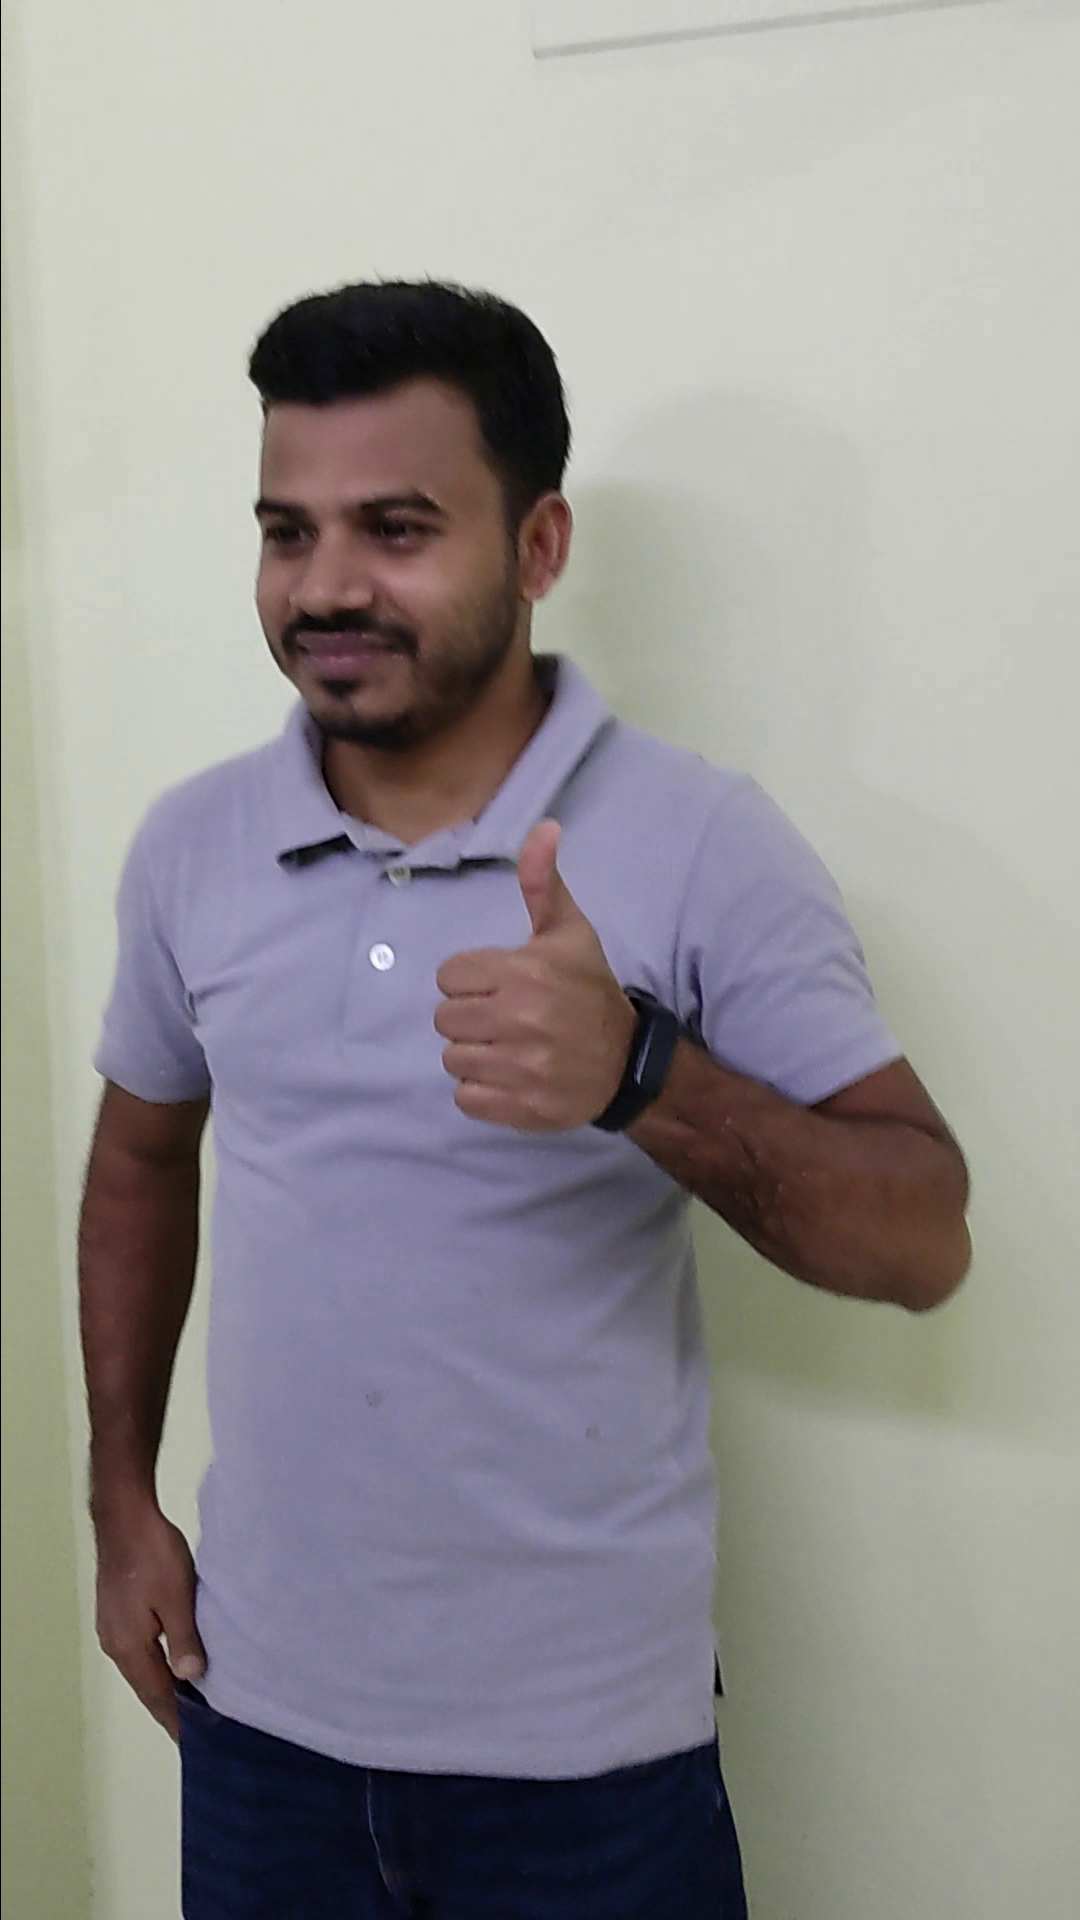Like: (417, 804, 657, 1142)
None: (73, 1466, 219, 1760)
